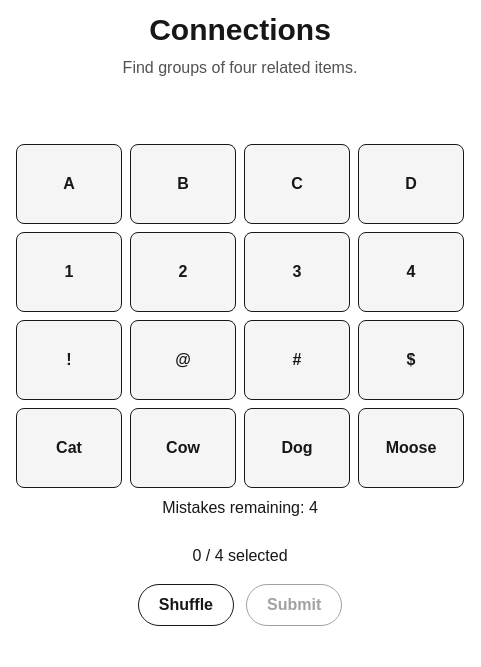
Test case: ConnectionsGameBoard › reconciles stale snapshots without fabricating an outcome or reaction
expect the text "Mistakes remaining: 4" is shown: met, box [162,499,318,516]
Click the button "A".
click(69, 184)  # box [16,144,122,224]
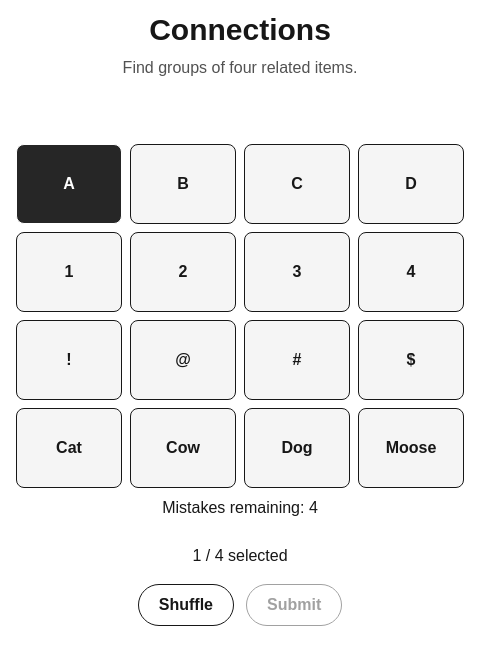
Click the button "B".
click(183, 184)  # box [130,144,236,224]
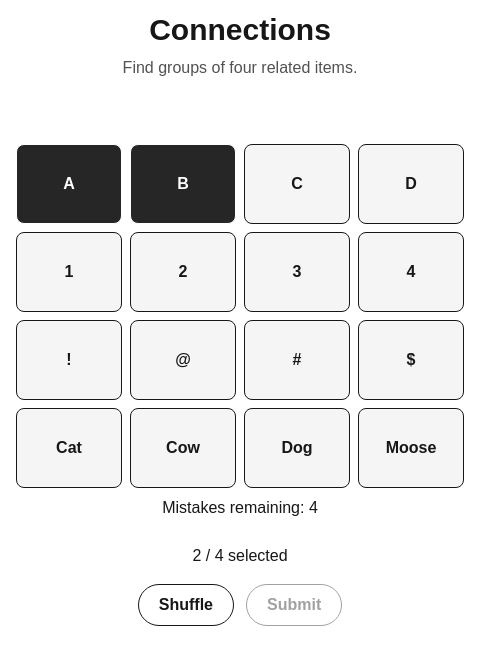
Click the button "C".
click(297, 184)  # box [244,144,350,224]
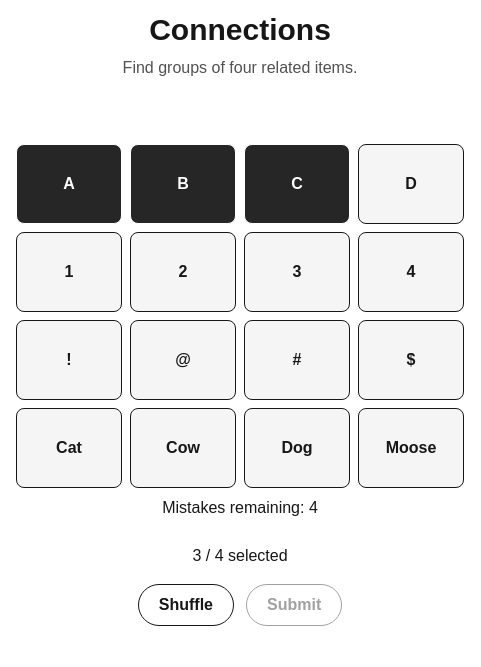
Click the button "D".
click(411, 184)  # box [358,144,464,224]
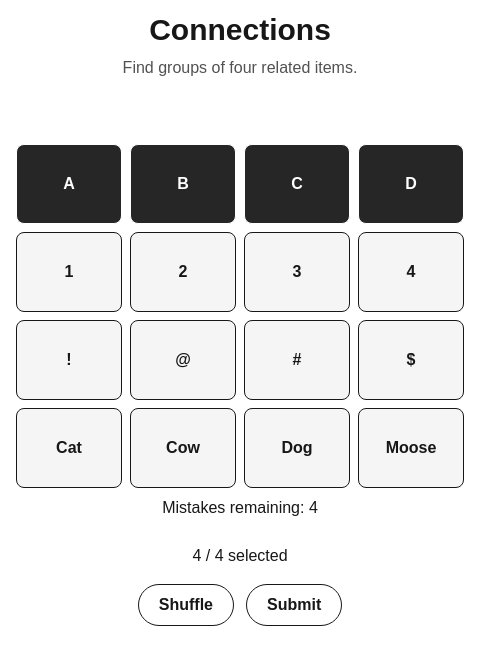
Click the button "Submit".
click(294, 605)  # box [246,584,342,626]
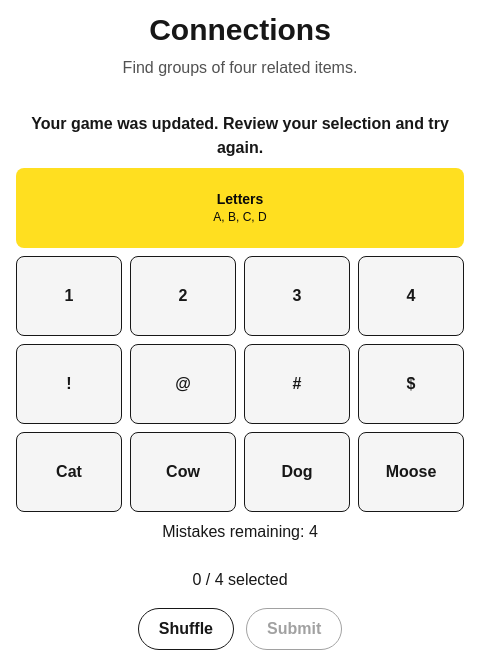
expect the text "Your game was updated. Review your selection and try again." is shown: met, box [16,112,464,160]
expect the text "Letters" is shown: met, box [217,191,263,207]
